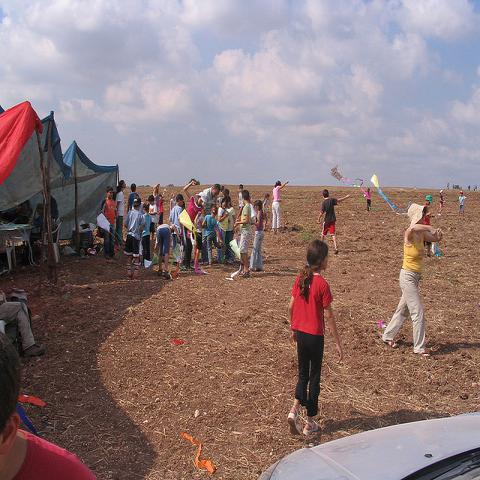car: (254, 414, 480, 475)
